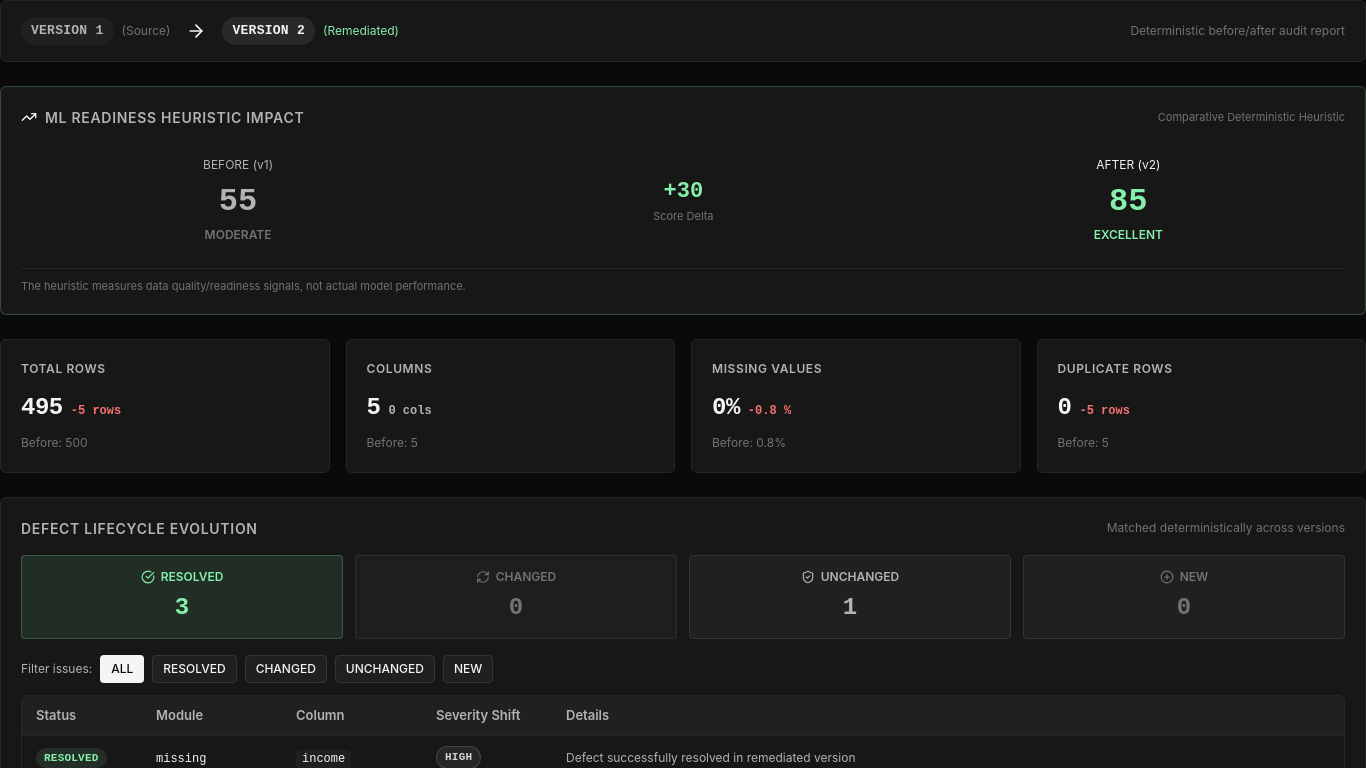
Versions Page & VersionComparisonView Regression Tests › 5. filters issues list dynamically when filter pills are clicked
Expected: the text "income" is shown, top-left (296, 750), bottom-right (351, 767)
Note: Filter to RESOLVED issues only
Click the button "RESOLVED" at (194, 669), box top-left (152, 655), bottom-right (237, 683)
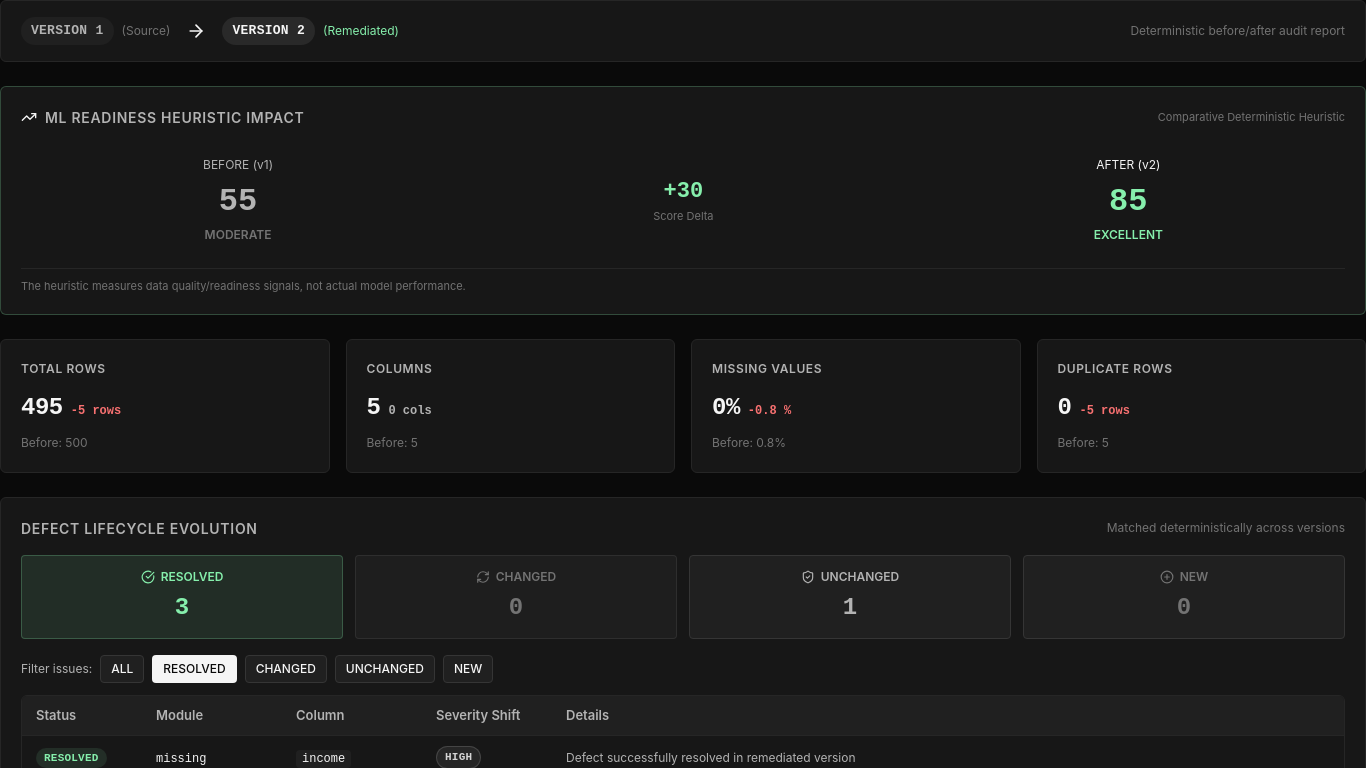
Expected: the text "income" is shown, top-left (296, 750), bottom-right (351, 767)
Note: Filter to NEW issues only (there are 0 NEW issues)
Click the button "NEW" at (468, 669), box top-left (443, 655), bottom-right (493, 683)
(page scrolled)
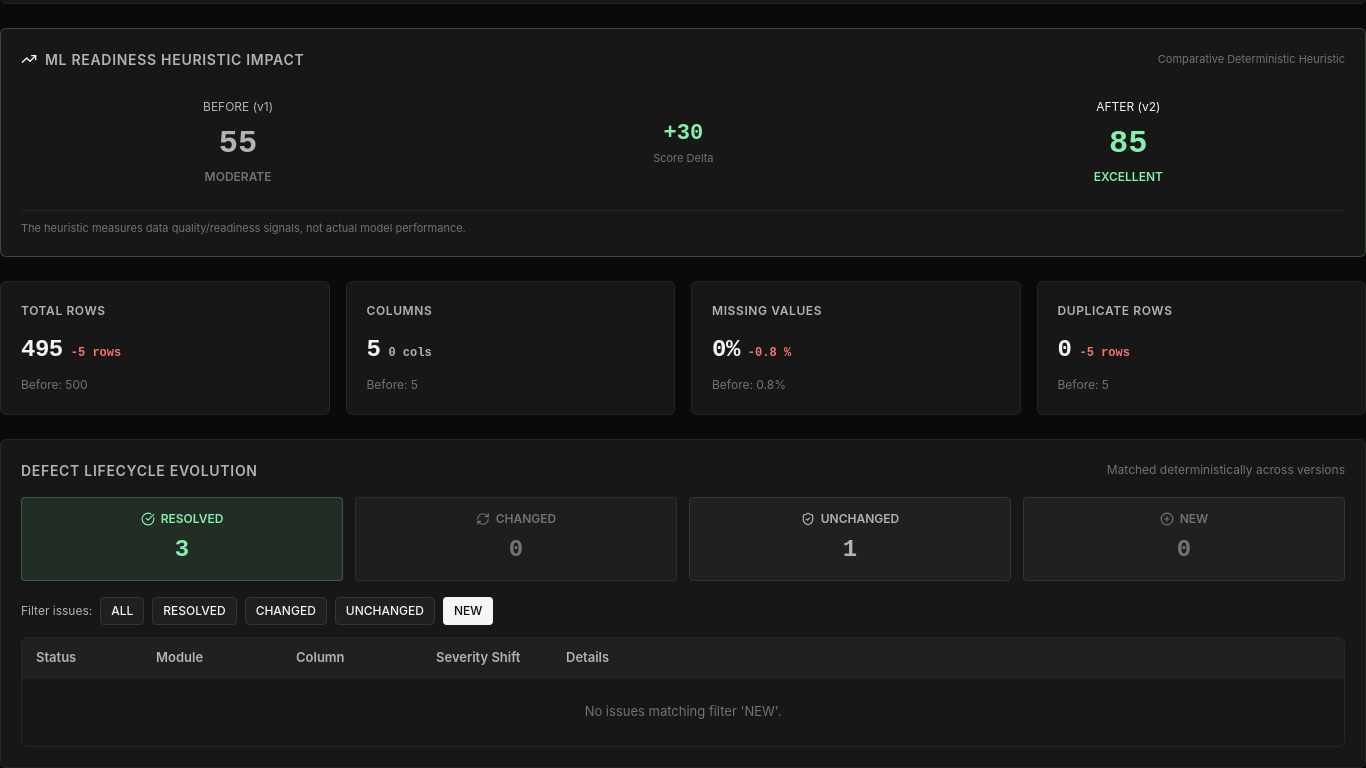
Result: the text "No issues matching filter 'NEW'." is shown at top-left (22, 678), bottom-right (1344, 746)
